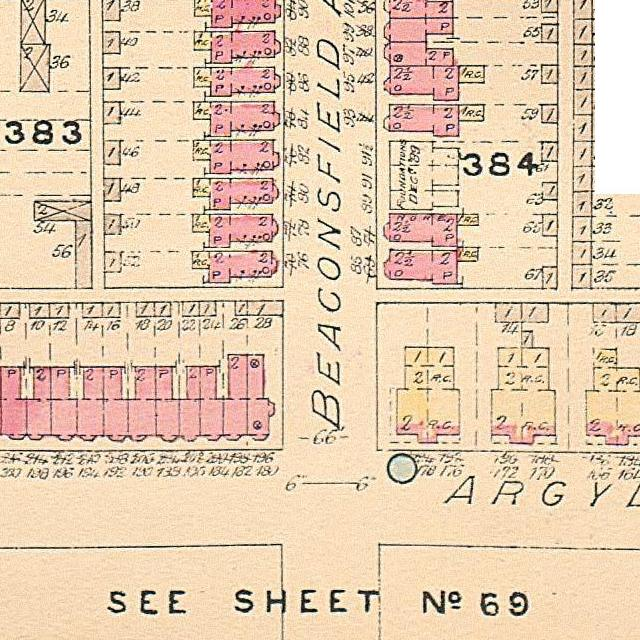building-footprints: (491, 348, 555, 444), (396, 347, 459, 443), (585, 349, 640, 445), (389, 141, 458, 210), (193, 102, 279, 137), (193, 140, 279, 174), (192, 214, 277, 248), (194, 31, 280, 64), (193, 178, 277, 210), (192, 251, 276, 282), (383, 66, 458, 100), (193, 67, 279, 96), (384, 250, 457, 284), (383, 214, 457, 246), (383, 105, 458, 136), (194, 0, 280, 27), (247, 355, 273, 440), (127, 367, 156, 441), (223, 355, 247, 440), (76, 367, 103, 440), (50, 367, 76, 440), (0, 367, 26, 439), (103, 367, 128, 441), (26, 367, 51, 440), (155, 367, 179, 441), (199, 367, 223, 440), (384, 18, 453, 42), (384, 42, 453, 66), (179, 366, 200, 441), (20, 44, 49, 92), (383, 0, 452, 18), (75, 220, 92, 289), (34, 201, 92, 221), (20, 0, 45, 44), (247, 301, 283, 316), (521, 303, 548, 322), (495, 303, 521, 322), (572, 216, 591, 242), (572, 191, 591, 217), (573, 141, 592, 167), (573, 89, 592, 115), (573, 114, 591, 141), (616, 303, 640, 323), (573, 166, 592, 191), (572, 241, 591, 265), (573, 66, 592, 90), (573, 19, 591, 44), (458, 66, 484, 83), (572, 265, 591, 288), (593, 303, 616, 322), (103, 141, 120, 165), (103, 178, 120, 202), (458, 105, 483, 121), (101, 0, 120, 21), (102, 32, 120, 54), (102, 68, 120, 90), (574, 44, 592, 66), (103, 102, 120, 124), (104, 251, 121, 273), (103, 214, 121, 234), (574, 0, 592, 19), (542, 214, 557, 236), (29, 303, 49, 319), (82, 302, 102, 318), (542, 267, 557, 288), (541, 104, 557, 123), (541, 24, 557, 43), (0, 303, 20, 318), (49, 303, 69, 318), (457, 247, 478, 261), (102, 302, 120, 318), (541, 65, 557, 83), (136, 302, 155, 317), (542, 142, 557, 161), (542, 182, 557, 200), (154, 302, 171, 317), (199, 301, 216, 316), (182, 302, 199, 316), (457, 214, 478, 225), (541, 0, 557, 12), (521, 331, 532, 348), (234, 301, 247, 315)
